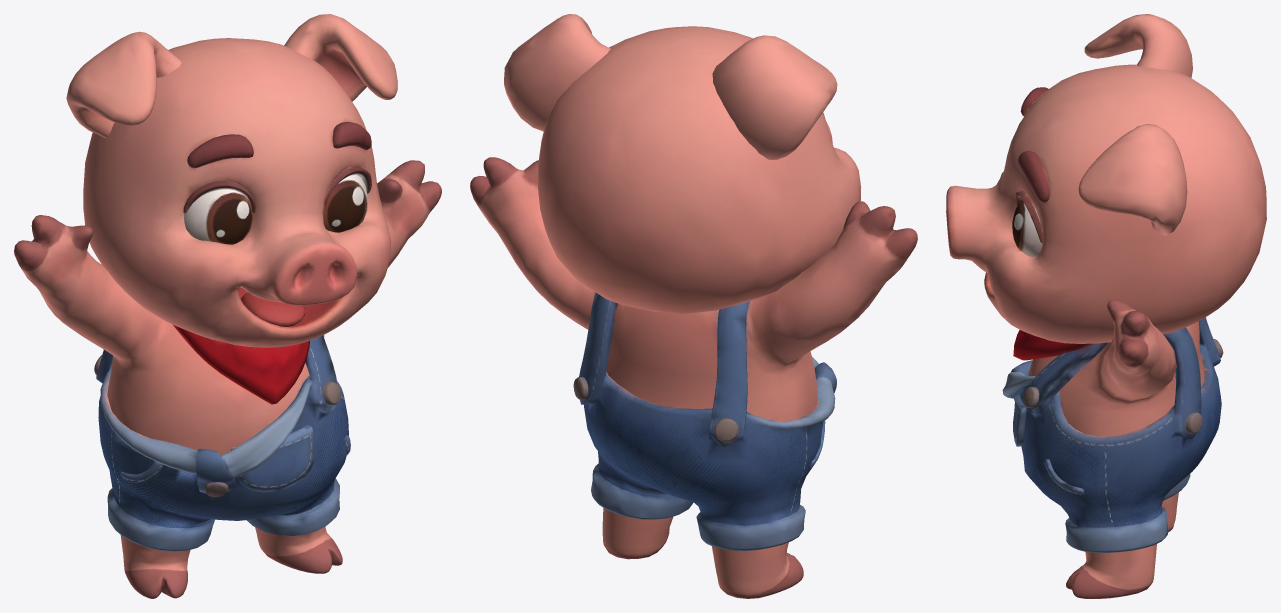
The model's file is pip.glb.
3 renders of one model, left to right at view 1: azimuth 30°, elevation 25°; view 2: azimuth 150°, elevation 25°; view 3: azimuth 270°, elevation 25°, orthographic. The views are drawn at different scales.
Parts seen in each view (by area): view 1: pip; view 2: pip; view 3: pip.
Part boxes in pixels (left/top/right/bottom): pip: left=14, top=14, right=441, bottom=598; pip: left=470, top=14, right=917, bottom=598; pip: left=946, top=14, right=1266, bottom=598.
Size of the model in its own units: 0.5803 by 0.7 by 0.4011.
Materials: 1 (1 with a texture image).
